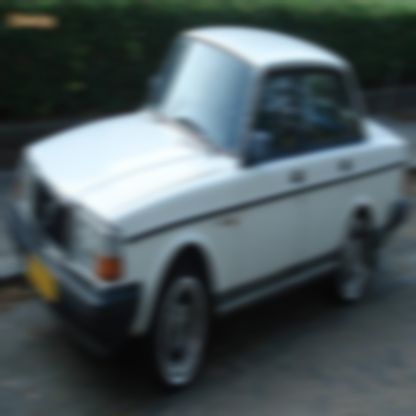Vehicle: (6, 25, 409, 398)
